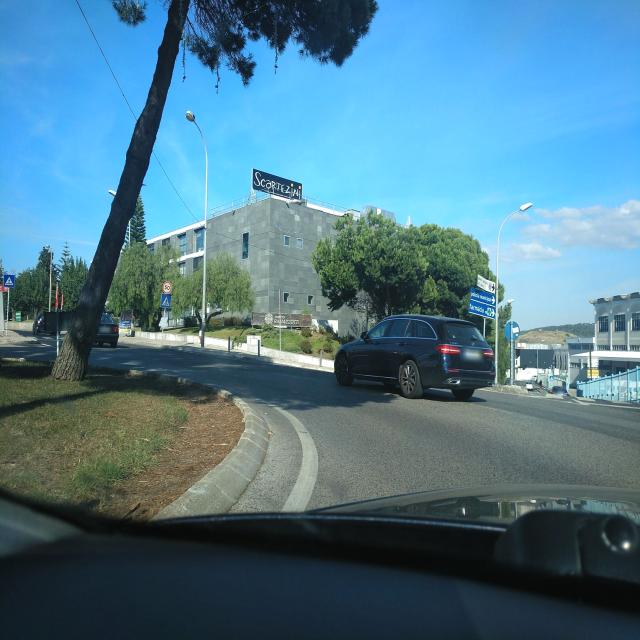car: (333, 312, 496, 399), (94, 313, 119, 347), (307, 316, 338, 336), (118, 318, 136, 336), (182, 313, 201, 330)
